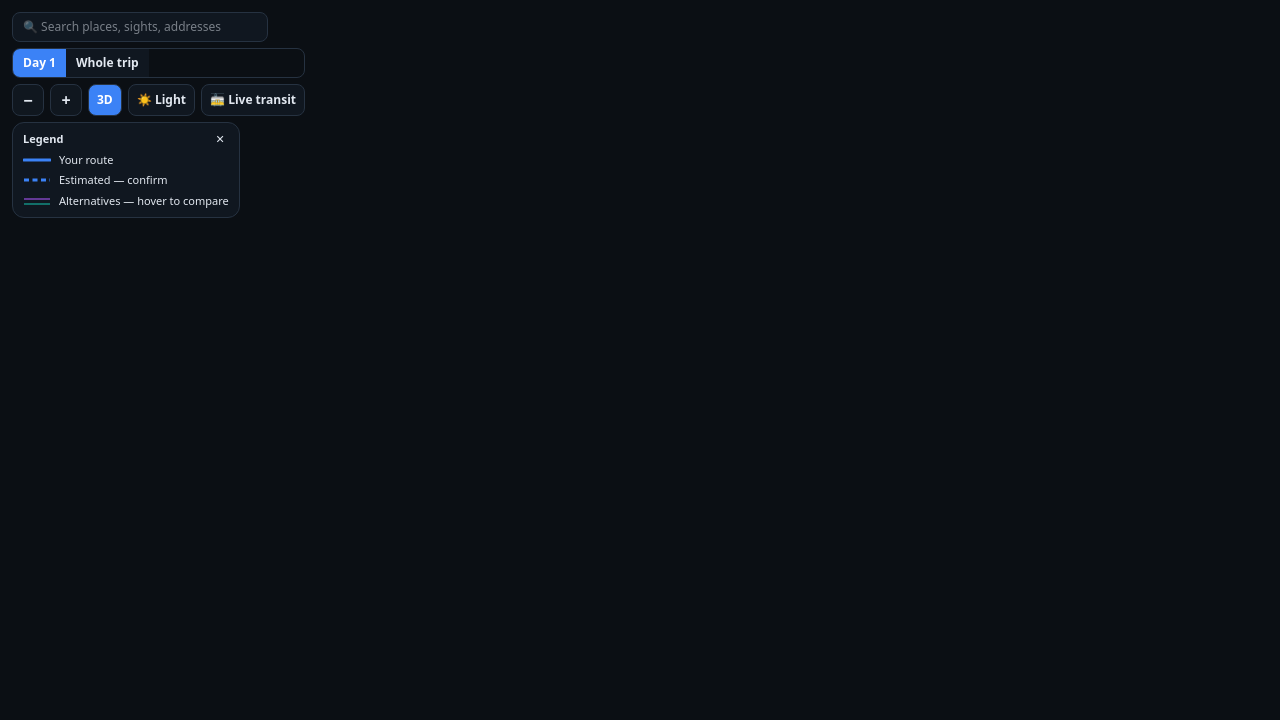
Test: TripMap › live vehicles: asks to zoom in instead of fetching at city scale
The image size is (1280, 720).
Click the button "🚋 Live transit" at (253, 100), box [201,84,305,116]
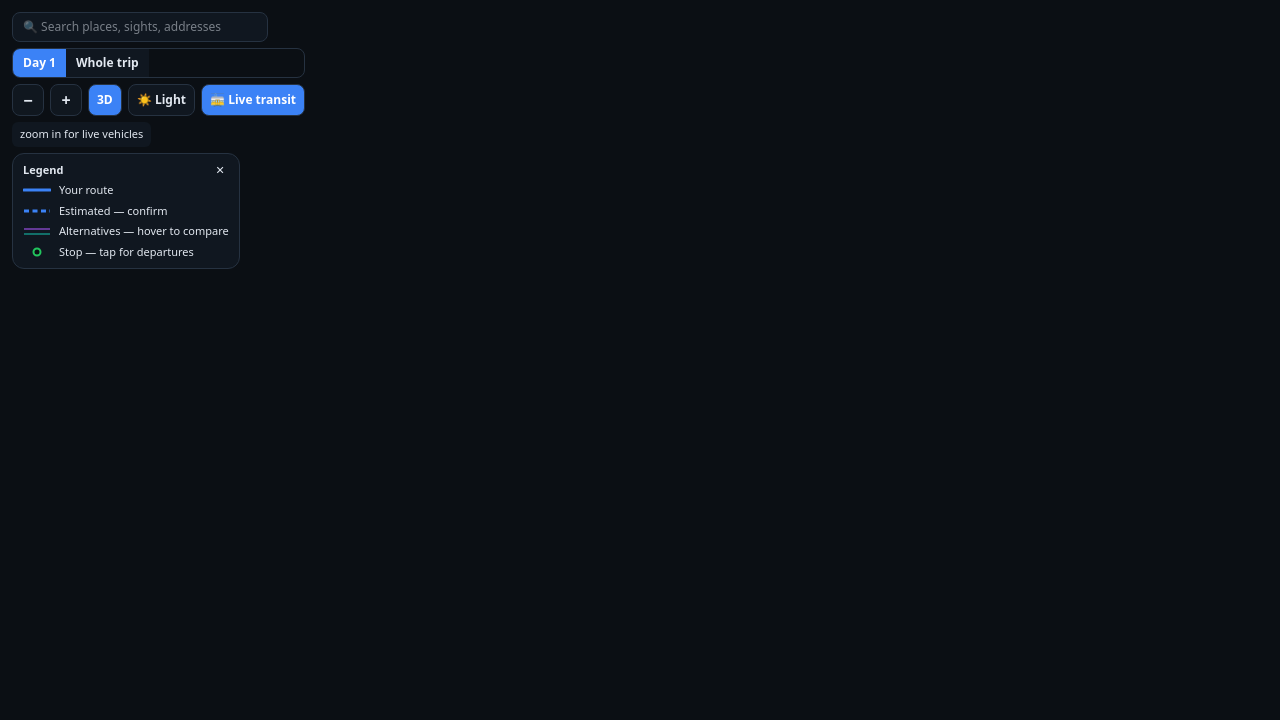
Result: the text "zoom in for live vehicles" is shown at [12,122,151,146]
